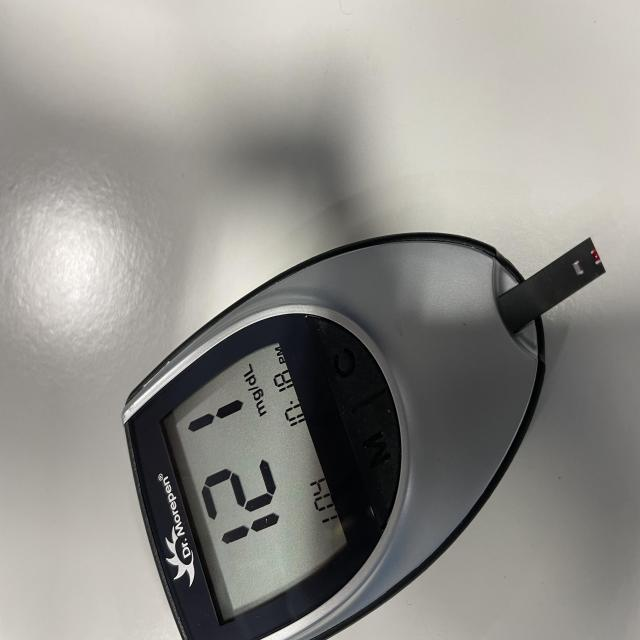gluco: (122, 233, 605, 640)
